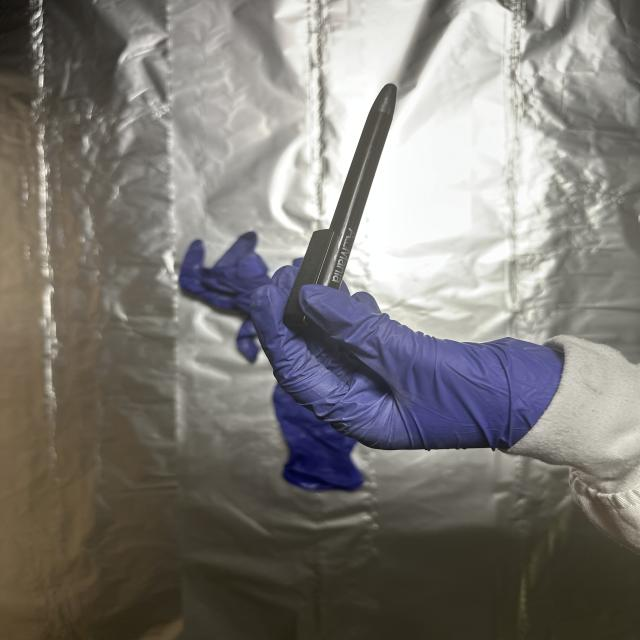gloves_contaminated: (252, 267, 564, 450)
